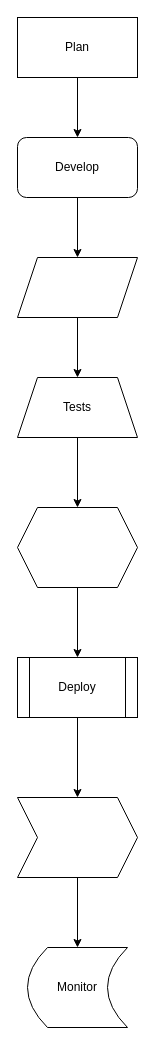
Image size: 155x1045. Some labels were removed from this diagram. Each missing label, with the centre of its shape:
"Built" belongs at (77,287).
"Operate" belongs at (77,837).
"Release" belongs at (77,547).
